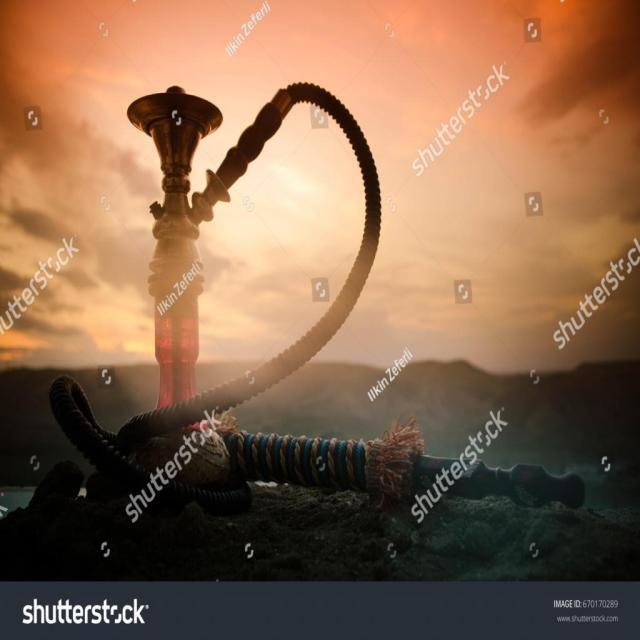smoking: (42, 76, 586, 518)
